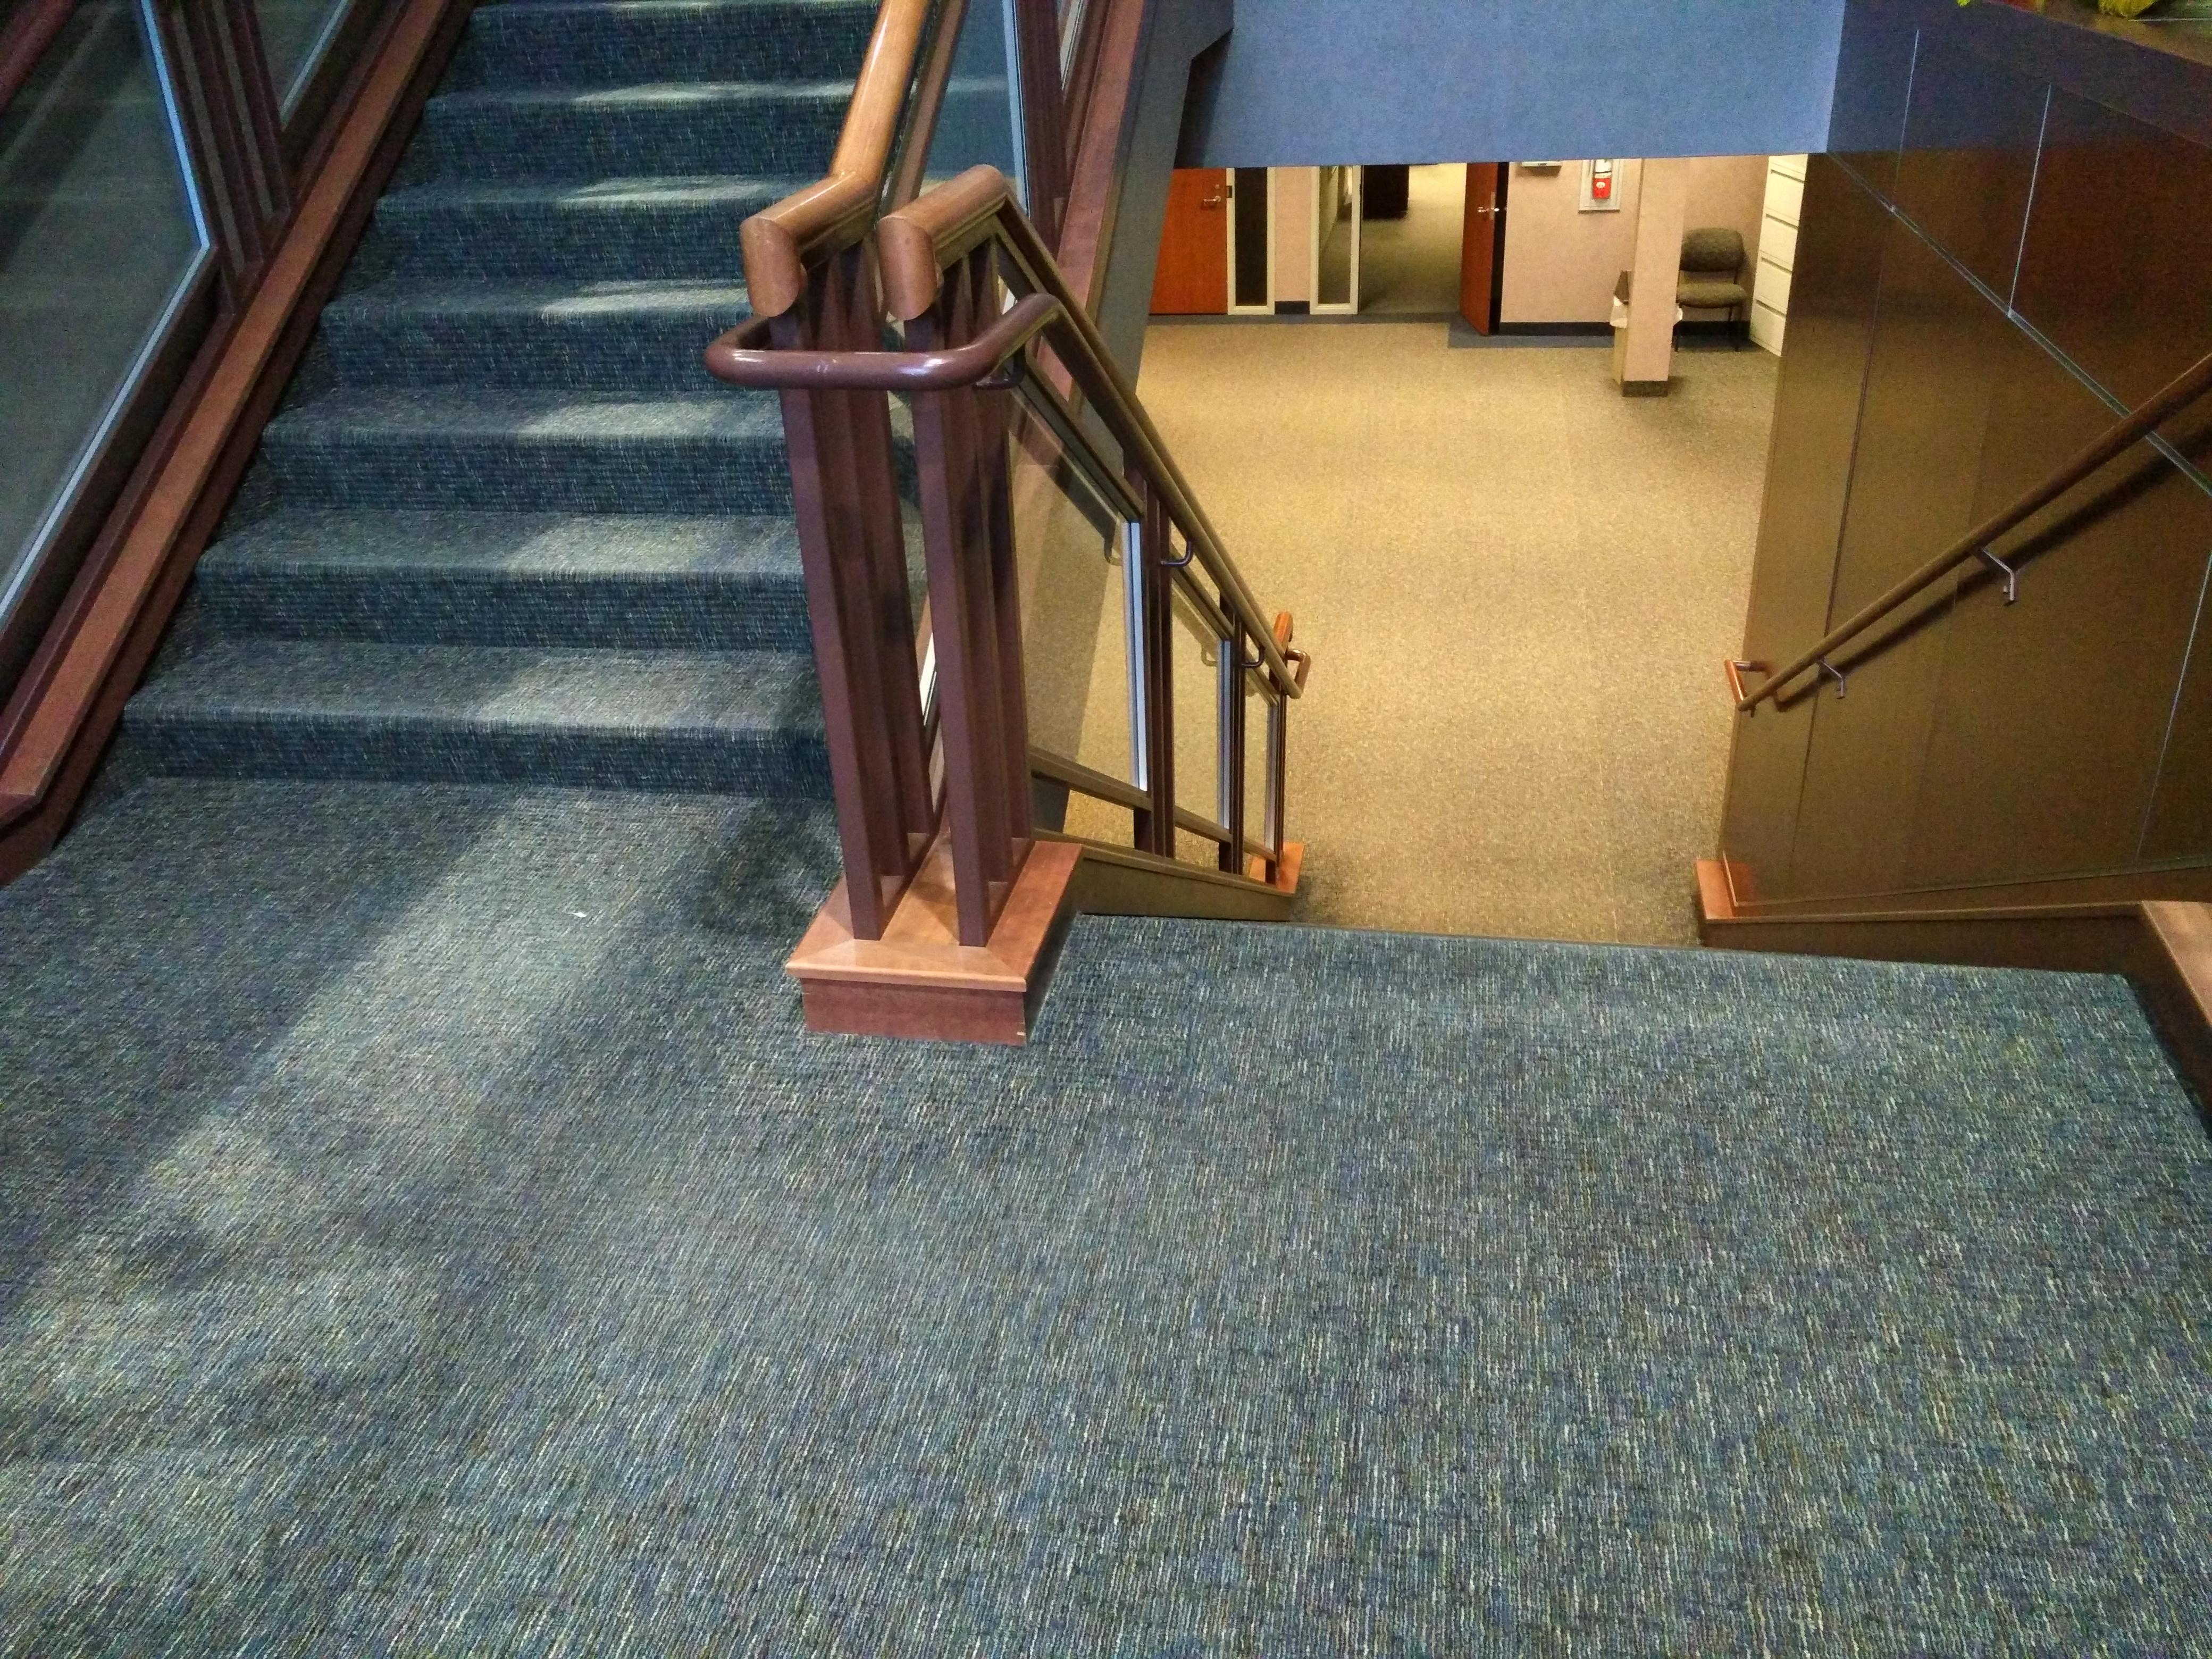stairs_down: (1076, 854, 2118, 1060)
stairs_up: (129, 14, 916, 854)
